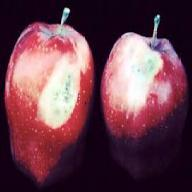apple: (6, 20, 94, 178), (103, 29, 183, 178)
